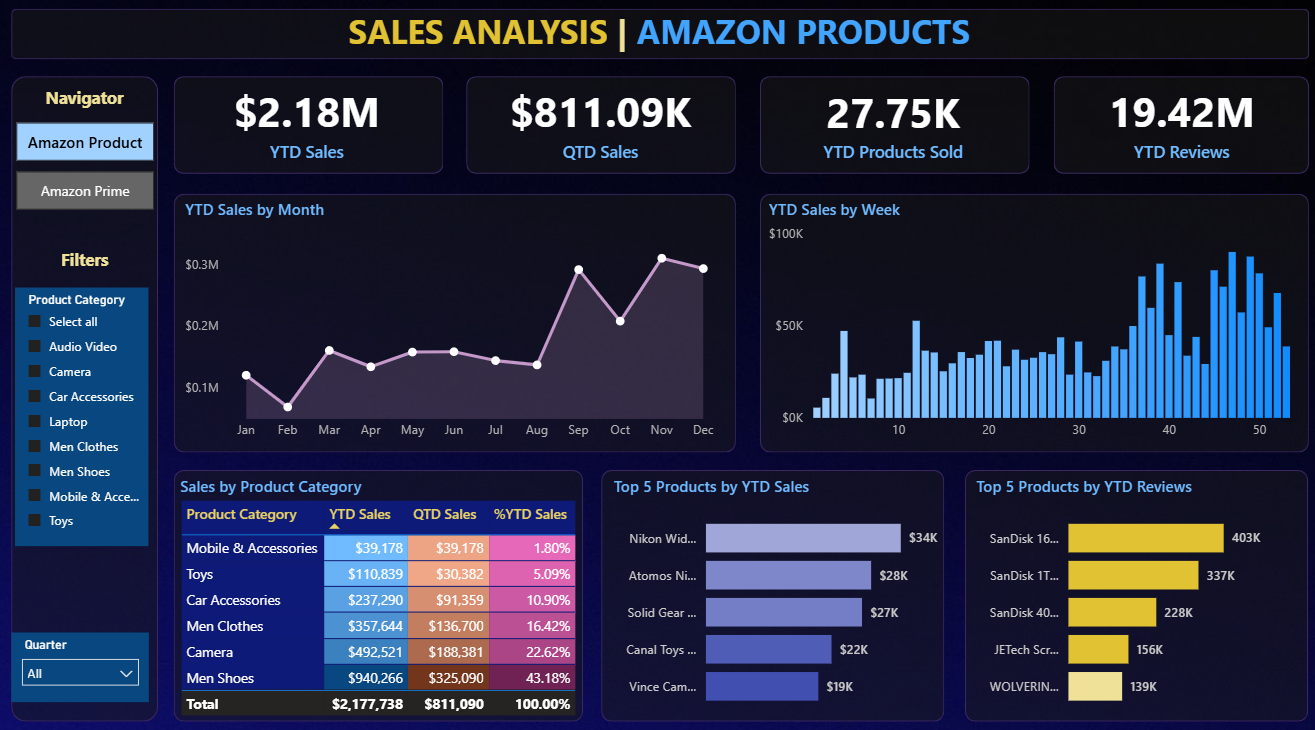

What the dashboard file says about the page in this screenshot:
{"tool":"powerbi","page":{"name":"Amazon Product","canvas":[1280,720],"ordinal":0},"visuals":[{"type":"shape","box":[15.1,79,141.8,622.8],"z":0},{"type":"shape","box":[172,79,260.3,94.1],"z":1000},{"type":"shape","box":[15.1,12.8,1252.6,48.8],"z":2000},{"type":"shape","box":[172,191.6,542.6,249.8],"z":3000},{"type":"areaChart","title":"YTD Sales by Month","fields":{"Category":["Calendar Table.Month"],"Y":["Sum(Amazon_Data.Price(Dollar))"]},"box":[178.9,196.2,526.4,241.7],"z":4000},{"type":"textbox","box":[310.2,8.1,662.3,53.4],"z":5000},{"type":"card","fields":{"Values":["Amazon_Data.YTD Sales"]},"box":[178.9,79,245.2,88.3],"z":6000},{"type":"shape","box":[454.3,79,260.3,94.1],"z":7000},{"type":"shape","box":[737.8,79,260.3,94.1],"z":8000},{"type":"shape","box":[1021.4,79,246.3,94.1],"z":9000},{"type":"card","fields":{"Values":["Amazon_Data.YTD Reviews"]},"box":[1022.5,79,245.2,88.3],"z":10000},{"type":"card","fields":{"Values":["Amazon_Data.QTD Sales"]},"box":[462.5,79,245.2,88.3],"z":11000},{"type":"shape","box":[737.8,191.7,529.9,249.8],"z":12000},{"type":"shape","box":[172,459,395.1,242.8],"z":13000},{"type":"card","fields":{"Values":["Amazon_Data.YTD Products Sold"]},"box":[737.6,78.7,260,89.1],"z":14000},{"type":"clusteredColumnChart","title":"YTD Sales by Week","fields":{"Category":["Calendar Table.Week"],"Y":["Sum(Amazon_Data.Price(Dollar))"]},"box":[742.5,196.4,517.1,241.7],"z":15000},{"type":"tableEx","title":"Sales by Product Category","fields":{"Values":["Amazon_Data.Product Category","Amazon_Data.YTD Sales1","Amazon_Data.QTD Sales","Amazon_Data.YTD Sales"]},"box":[174,463.1,392.6,242.4],"z":16000},{"type":"shape","box":[585.6,459,331,242.8],"z":17000},{"type":"shape","box":[936.5,459,331.2,242.8],"z":18000},{"type":"clusteredBarChart","title":"Top 5 Products by YTD Sales","fields":{"Category":["Amazon_Data.Product Description"],"Y":["Amazon_Data.YTD Sales"]},"box":[592.6,463.1,323.2,238.3],"z":19000},{"type":"clusteredBarChart","title":"Top 5 Products by YTD Reviews","fields":{"Category":["Amazon_Data.Product Description"],"Y":["Amazon_Data.YTD Reviews"]},"box":[941.7,463.1,322.2,238.3],"z":20000},{"type":"pageNavigator","box":[20.1,122.8,134,86],"z":21000},{"type":"textbox","box":[24.9,82.9,122.2,37.3],"z":22000},{"type":"textbox","box":[24.9,239.3,122.2,37.3],"z":23000},{"type":"slicer","fields":{"Values":["Amazon_Data.Product Category"]},"box":[19.2,282.7,129,249.7],"z":24000},{"type":"slicer","fields":{"Values":["Calendar Table.Quarter"]},"box":[15.1,614.8,133.1,67.2],"z":25000}]}

Visuals, with their boxes in screenshot pixels (x1, y1, x2, y2), scaled from the page's 1280x720 canvas onto the 1315x730 screenshot:
shape: Rect(16, 80, 161, 712)
shape: Rect(177, 80, 444, 176)
shape: Rect(16, 13, 1302, 62)
shape: Rect(177, 194, 734, 448)
"YTD Sales by Month" areaChart: Rect(184, 199, 725, 444)
textbox: Rect(319, 8, 999, 62)
card - Amazon_Data.YTD Sales: Rect(184, 80, 436, 170)
shape: Rect(467, 80, 734, 176)
shape: Rect(758, 80, 1025, 176)
shape: Rect(1049, 80, 1302, 176)
card - Amazon_Data.YTD Reviews: Rect(1050, 80, 1302, 170)
card - Amazon_Data.QTD Sales: Rect(475, 80, 727, 170)
shape: Rect(758, 194, 1302, 448)
shape: Rect(177, 465, 583, 712)
card - Amazon_Data.YTD Products Sold: Rect(758, 80, 1025, 170)
"YTD Sales by Week" clusteredColumnChart: Rect(763, 199, 1294, 444)
"Sales by Product Category" tableEx: Rect(179, 470, 582, 715)
shape: Rect(602, 465, 942, 712)
shape: Rect(962, 465, 1302, 712)
"Top 5 Products by YTD Sales" clusteredBarChart: Rect(609, 470, 941, 711)
"Top 5 Products by YTD Reviews" clusteredBarChart: Rect(967, 470, 1298, 711)
pageNavigator: Rect(21, 125, 158, 212)
textbox: Rect(26, 84, 151, 122)
textbox: Rect(26, 243, 151, 280)
slicer - Amazon_Data.Product Category: Rect(20, 287, 152, 540)
slicer - Calendar Table.Quarter: Rect(16, 623, 152, 691)
